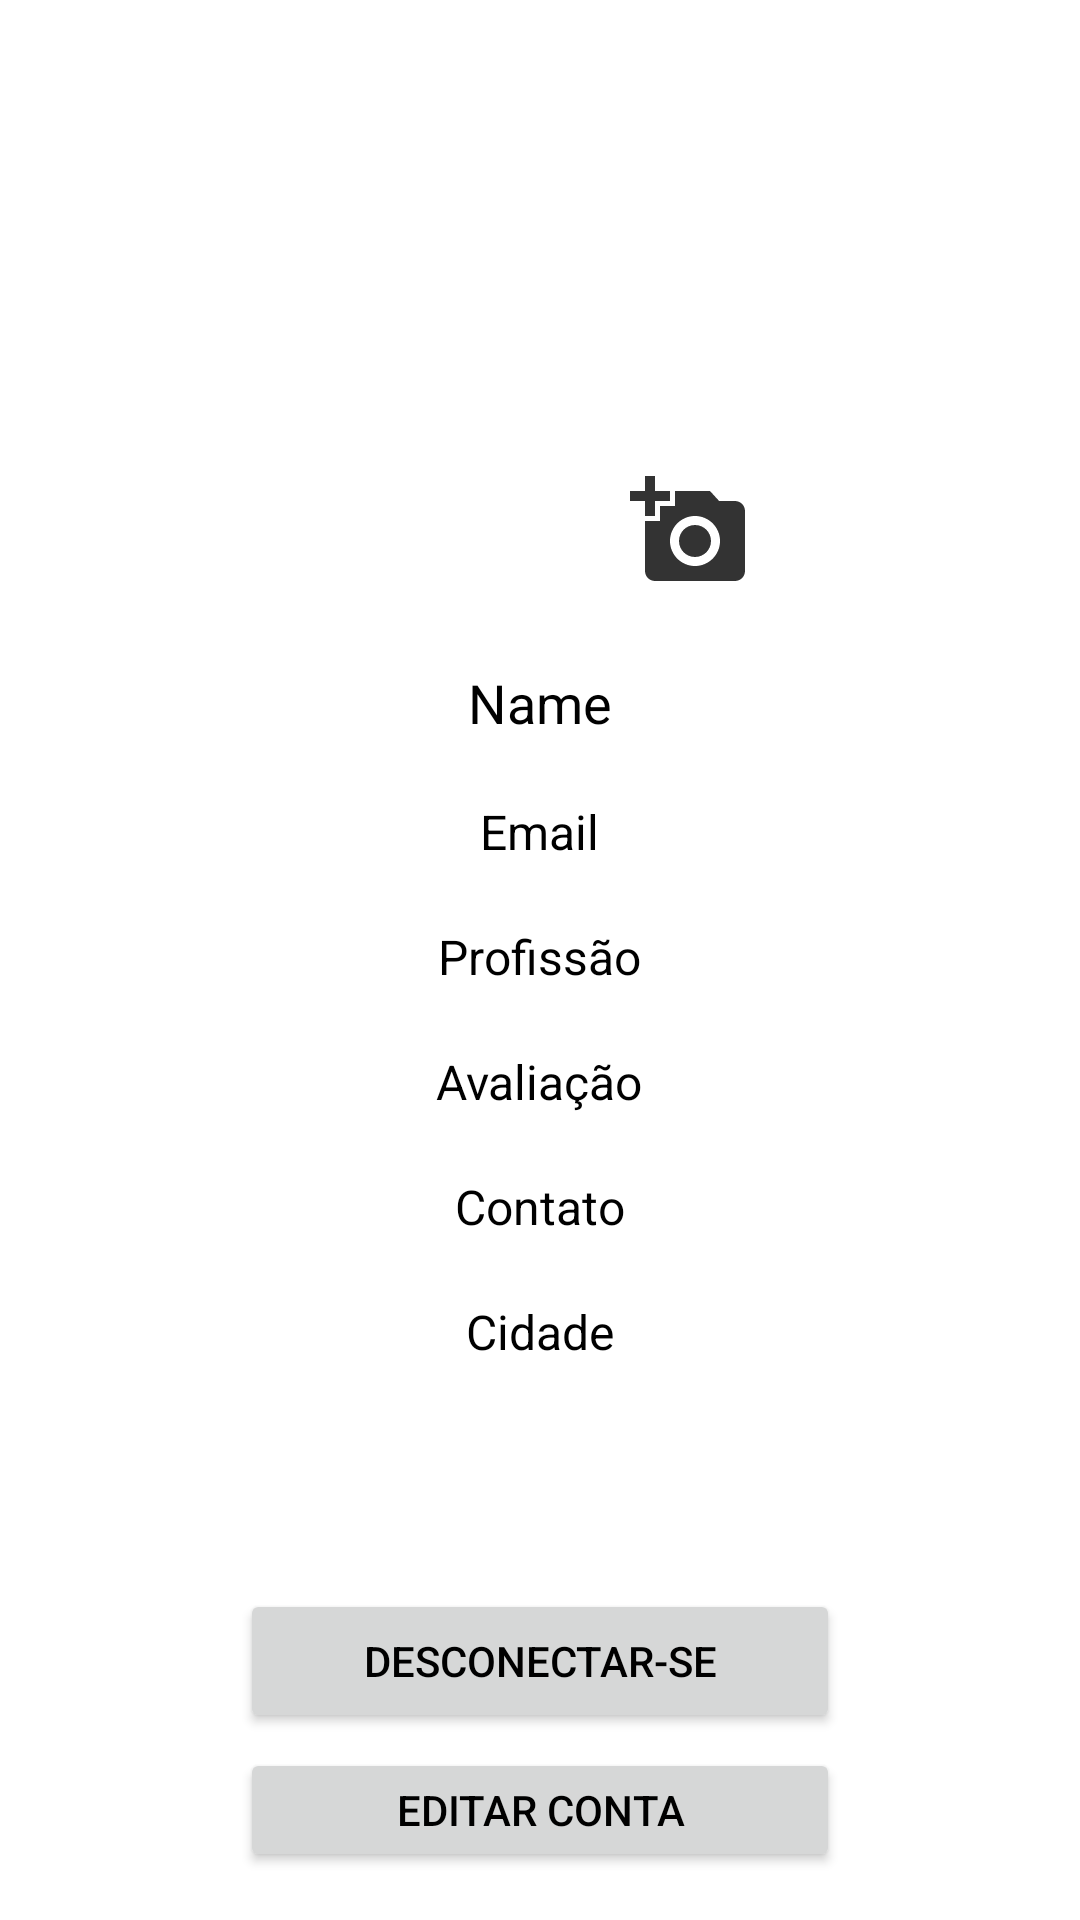

Screen size 1080*1920. Icon name, then its center in pixels as (x,y):
account photo: (687,528)
